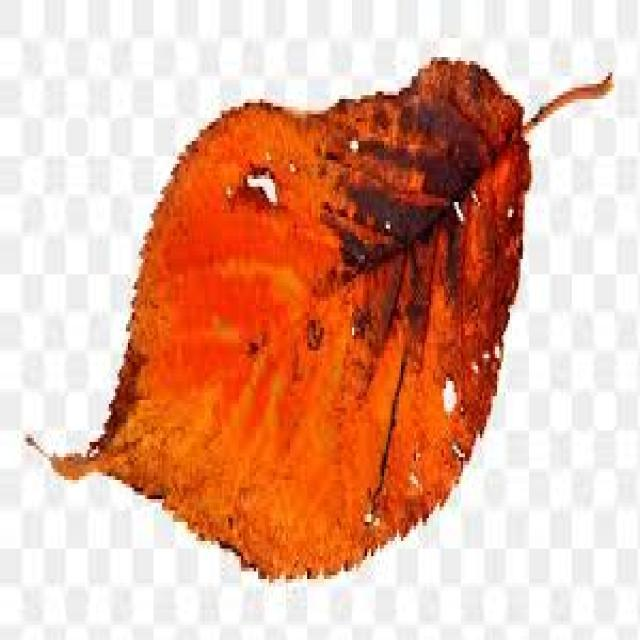leaf: (23, 56, 613, 582)
